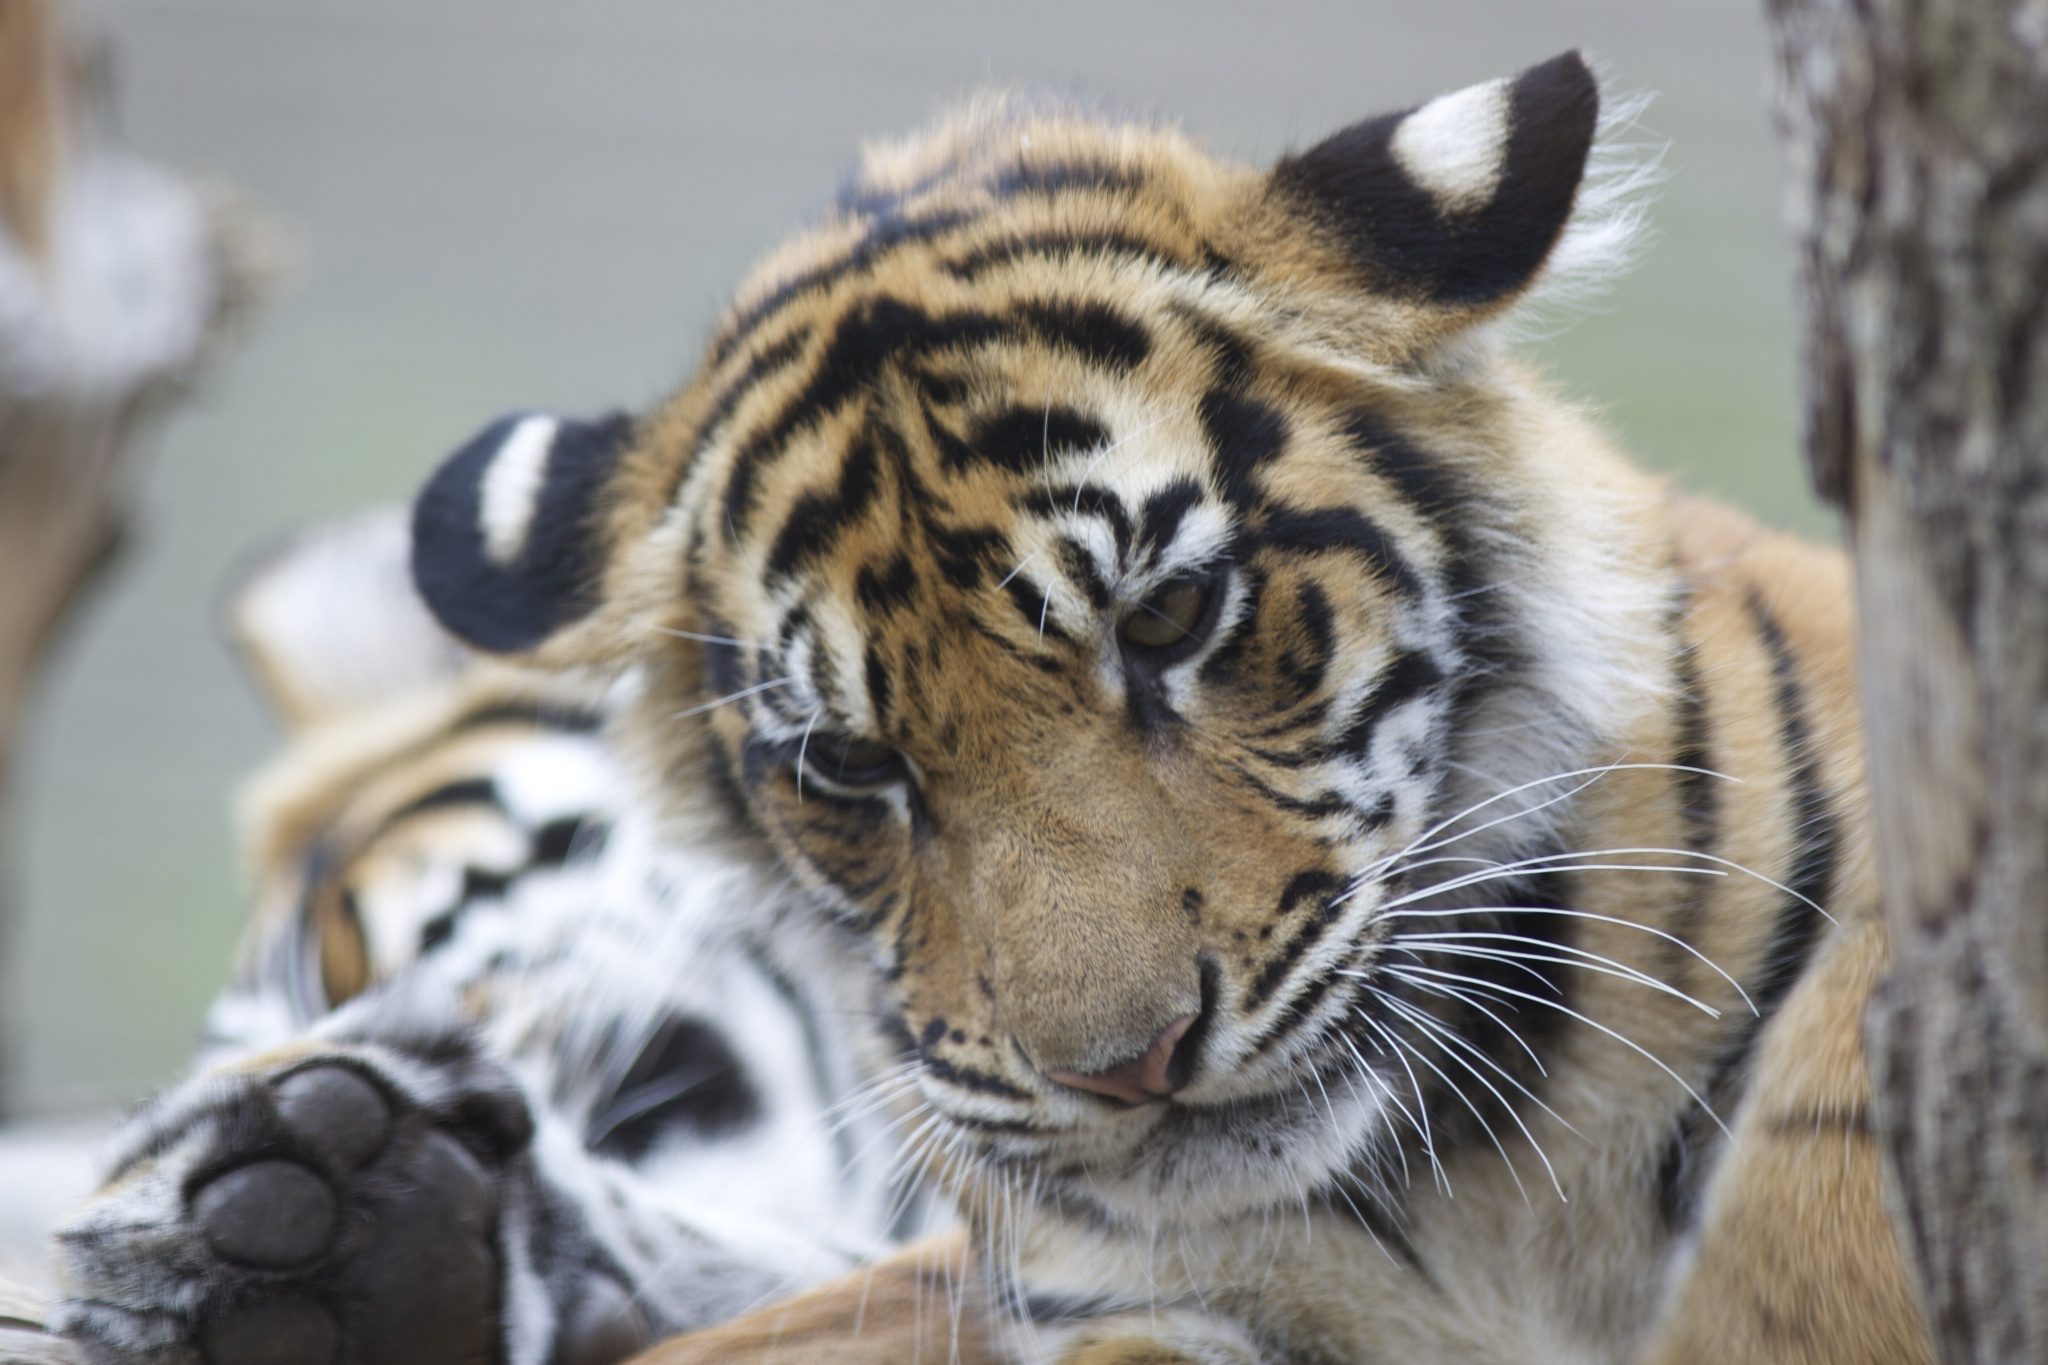tiger: (405, 107, 1951, 1309)
